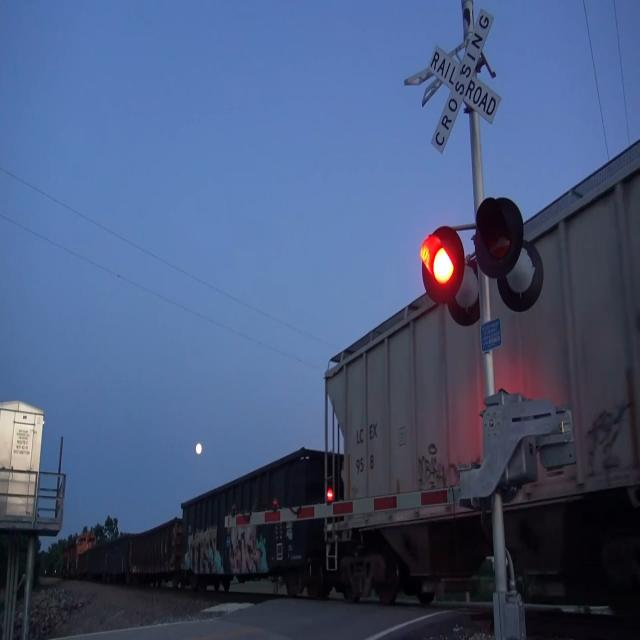gondola: (175, 437, 339, 597)
hopper: (314, 132, 640, 607)
